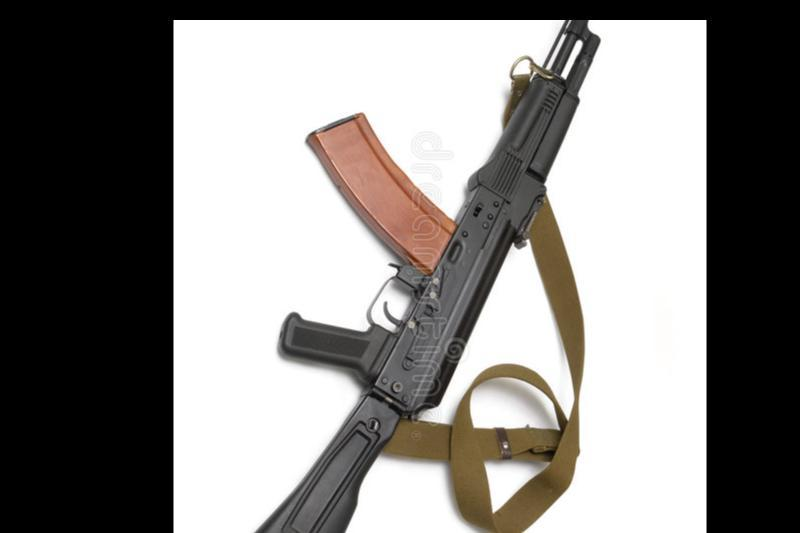larga: (258, 21, 601, 533)
